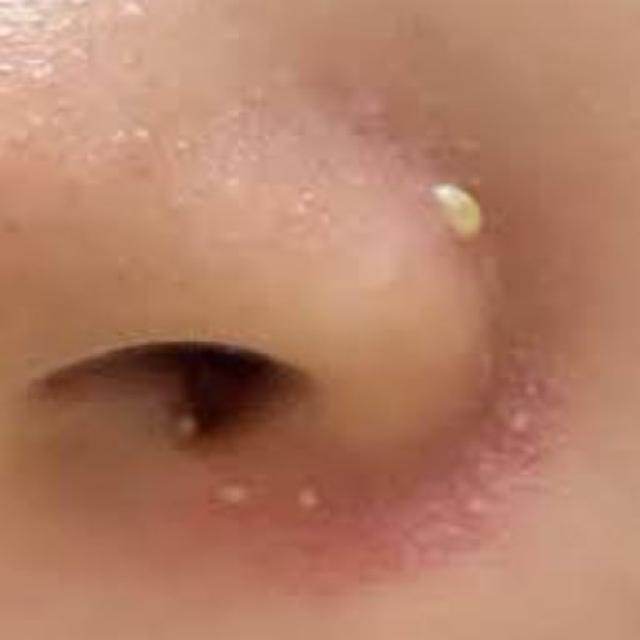pustule: (383, 148, 522, 267)
